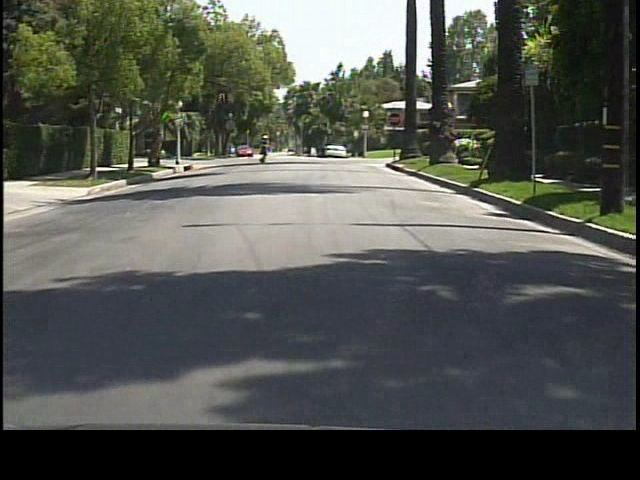person: (257, 135, 271, 166)
